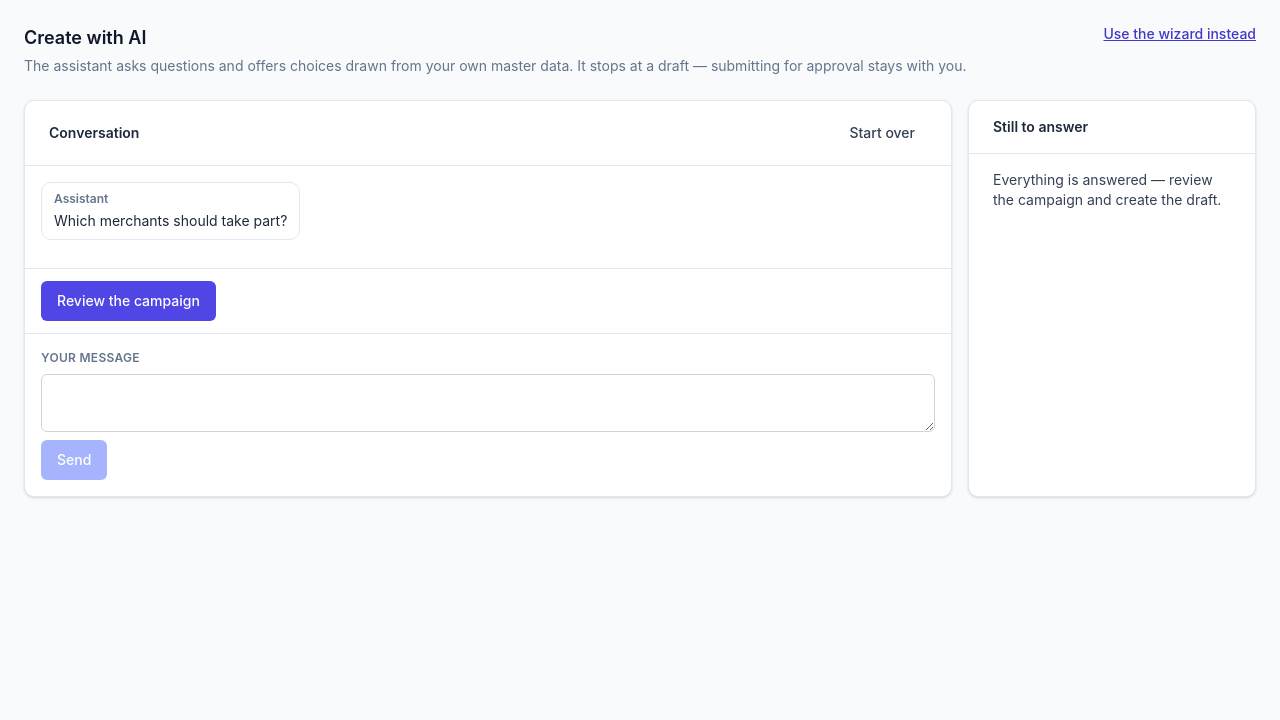
TC-1 — a full conversation ending in a draft › TC-8 — the copy says the approval step is still the maker’s, before and after the draft exists
Click the button "Review the campaign" at (128, 301), box x1=41 y1=281 x2=216 y2=321
(page scrolled)
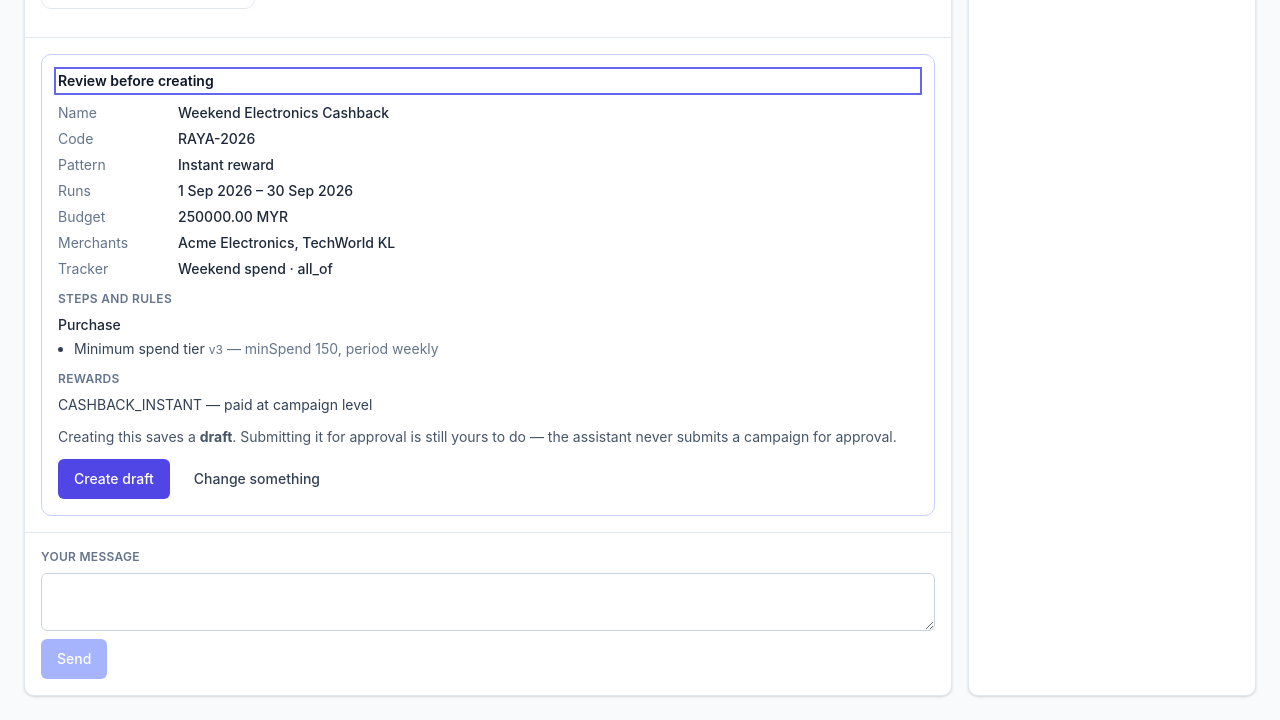
Result: the text "the assistant never submits a campaign for approval" is shown at x1=232 y1=428 x2=897 y2=445
Click the button "Create draft" at (114, 479), box x1=58 y1=459 x2=170 y2=499
(page scrolled)
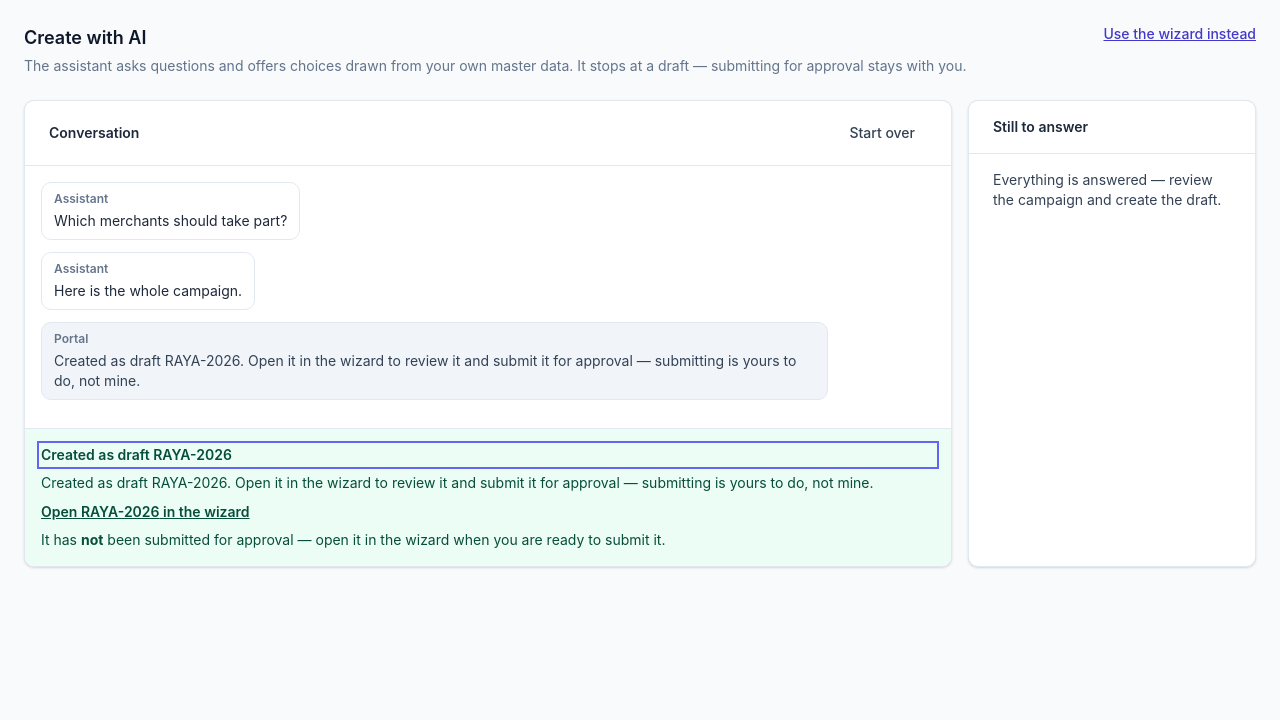
Result: the element "Created as draft" shows "has not been submitted for approval" at x1=25 y1=428 x2=951 y2=566
